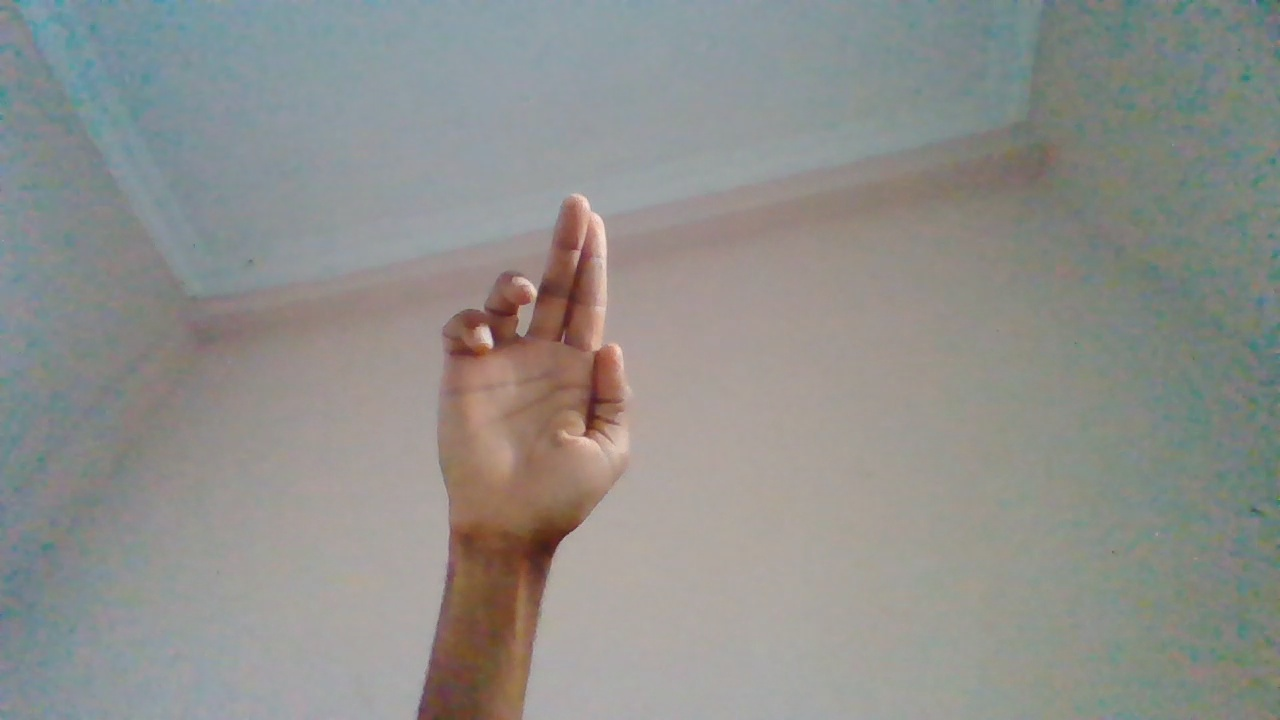gne: (429, 188, 633, 621)
